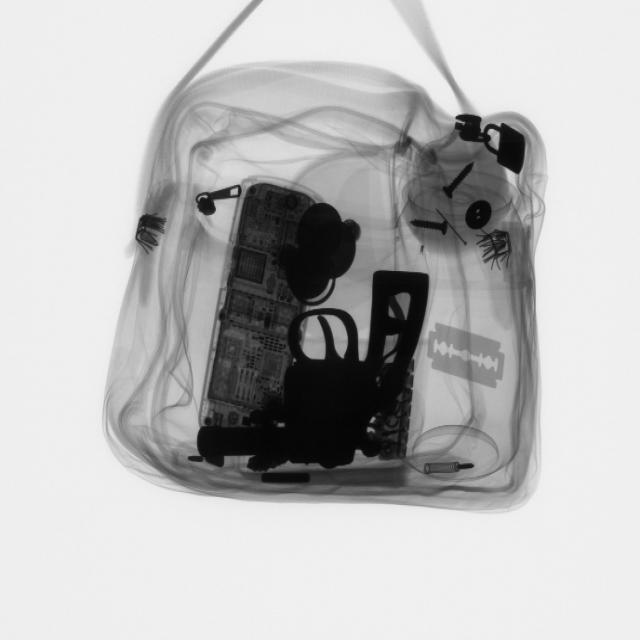BLADE: (422, 320, 512, 394)
GUN: (198, 260, 421, 471)
SCREW: (437, 157, 479, 203), (405, 210, 454, 241)
